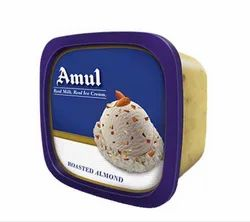Amul: (53, 64, 103, 86)
